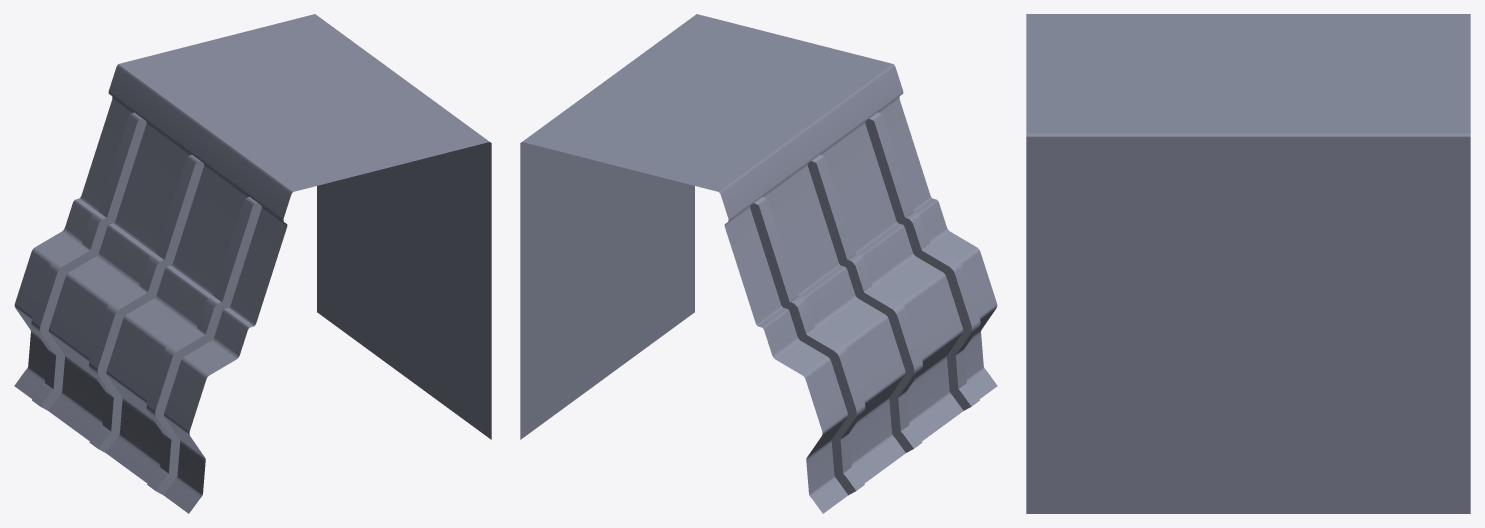
File: Wall6TEST.fbx
The picture shows the model from 3 angles, left to right: view 1: azimuth 30°, elevation 25°; view 2: azimuth 150°, elevation 25°; view 3: azimuth 270°, elevation 25°; orthographic projection. The views are drawn at different scales.
Parts seen in each view (by area): view 1: Wall6; view 2: Wall6; view 3: Wall6.
Boxes of the visible parts, <box> form: Wall6: <box>14,14,491,513</box>; Wall6: <box>520,14,997,513</box>; Wall6: <box>1026,14,1470,513</box>.
Bounding box in the file's own units: 1.03 × 0.9425 × 1.
